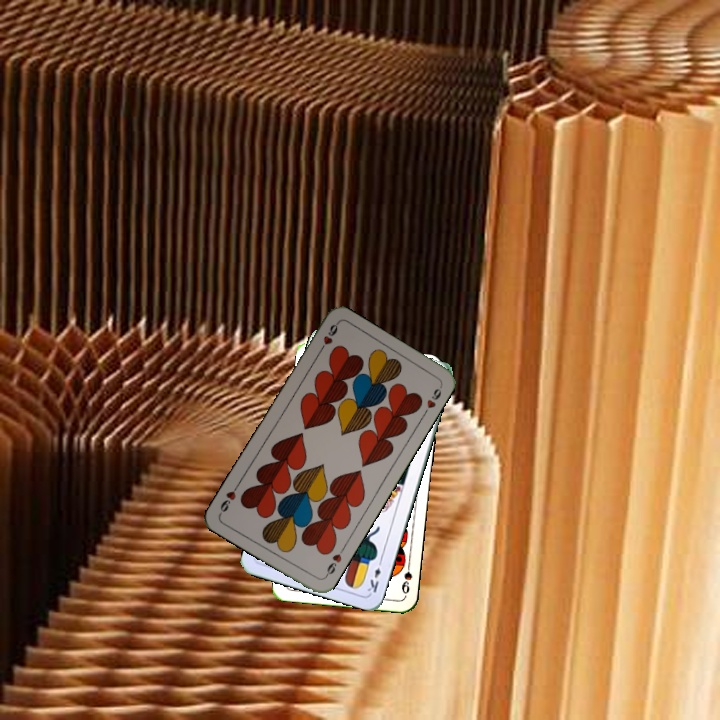EK: (363, 555, 385, 595)
H9: (321, 543, 347, 580), (314, 319, 340, 356)
S9: (397, 557, 415, 596)
